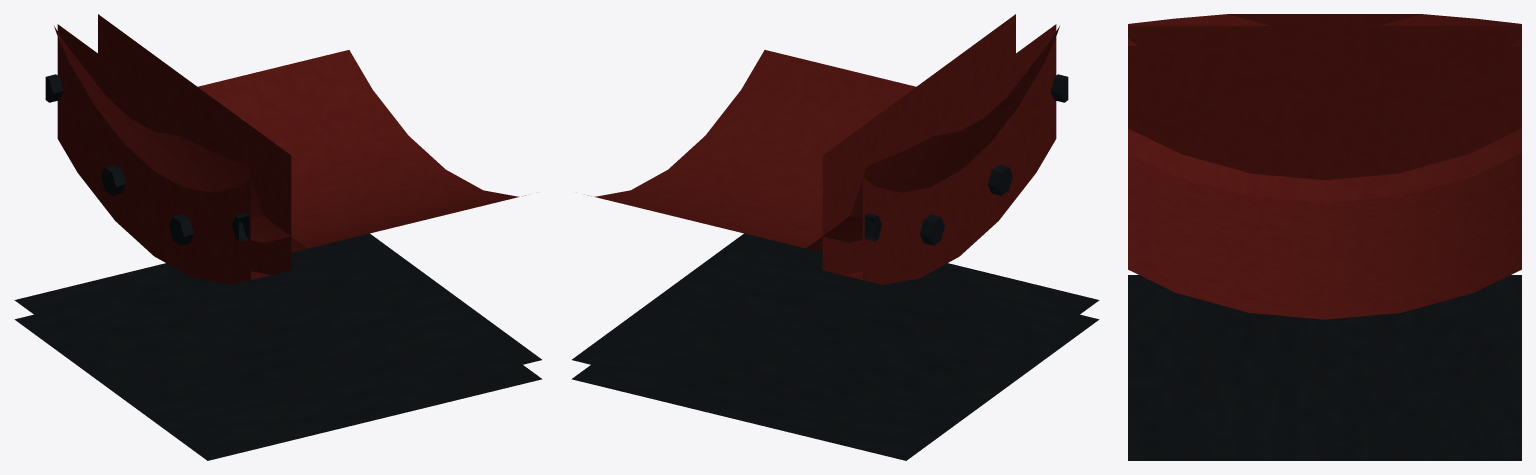
File: cell_9.obj
3 views of the same model, side by side, from view 1: azimuth 30°, elevation 25°; view 2: azimuth 150°, elevation 25°; view 3: azimuth 270°, elevation 25° (orthographic).
Visible parts, largest first — view 1: cell_9; view 2: cell_9; view 3: cell_9.
Boxes of the visible parts, bbox=[...] form: cell_9: bbox=[14, 14, 542, 460]; cell_9: bbox=[571, 14, 1099, 460]; cell_9: bbox=[1128, 14, 1521, 460].
Size of the model in its own units: 1 by 0.813 by 1.
